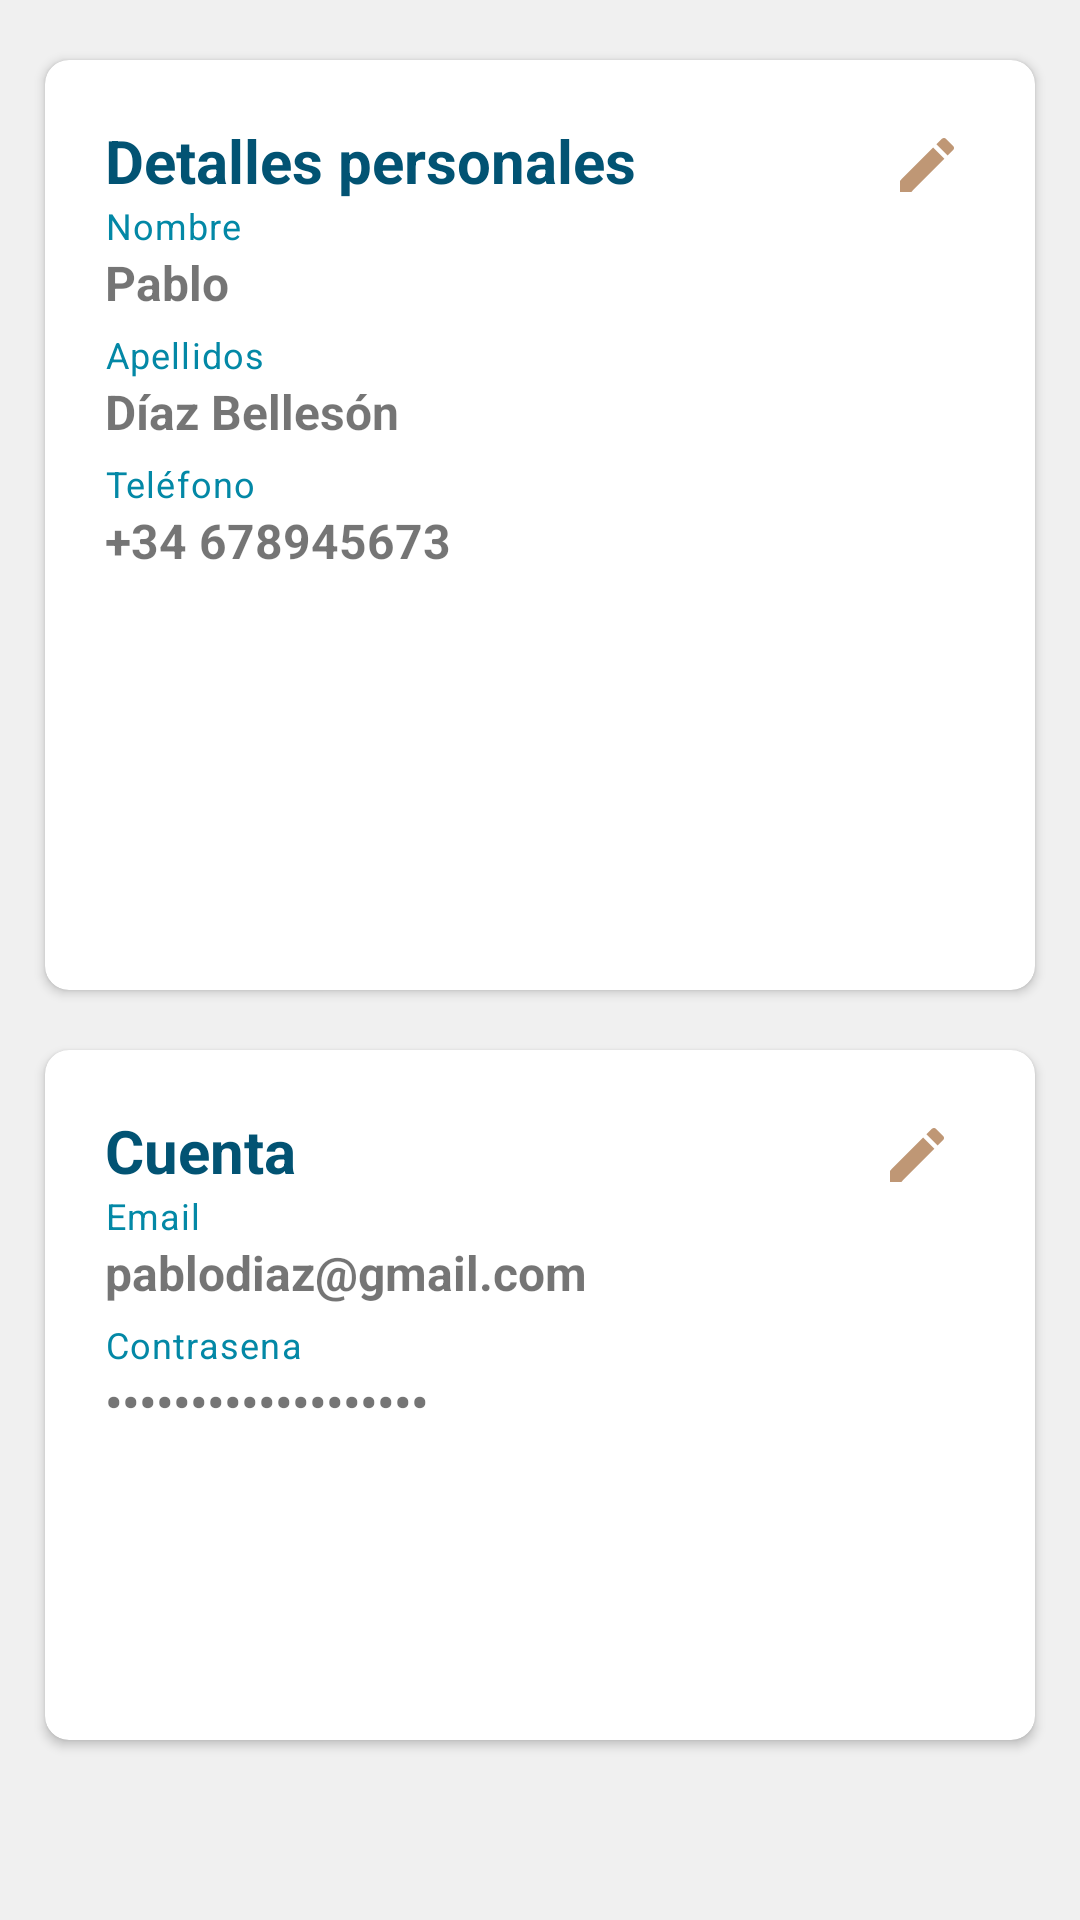

Icons on this 1080px x 1920px Android screen, each with the point to tap as (x=x, y=y):
edit: (x=927, y=165), (x=917, y=1155)
